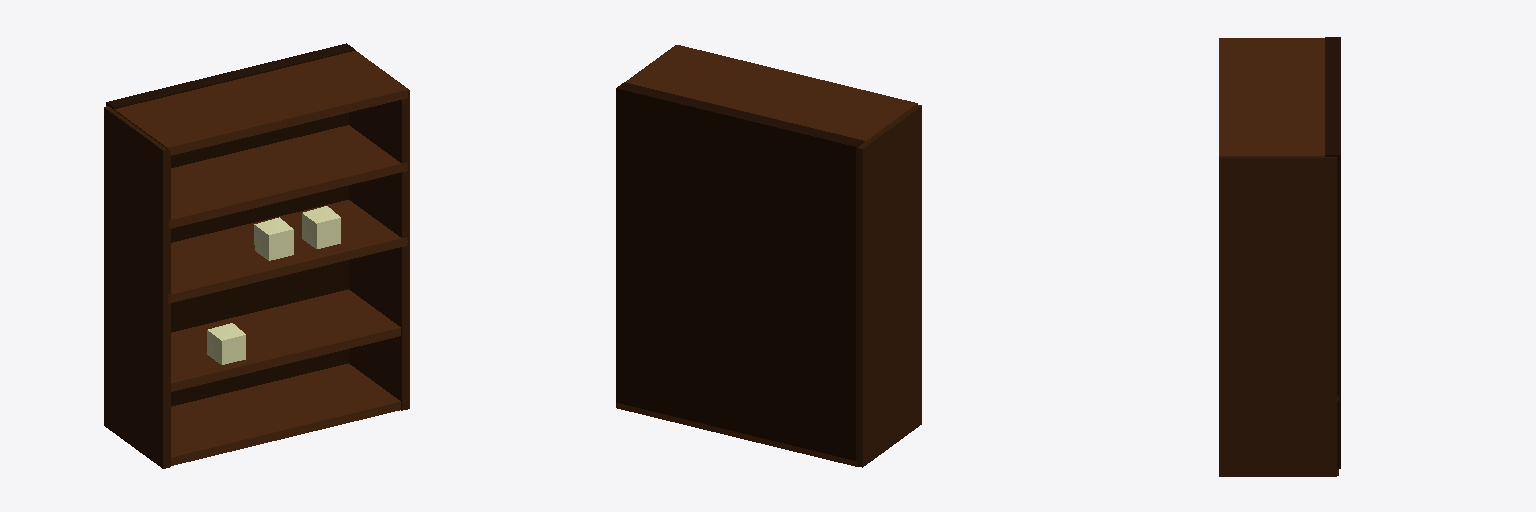
The model's file is mueble3.obj.
3 renders of one model, left to right at view 1: azimuth 30°, elevation 25°; view 2: azimuth 150°, elevation 25°; view 3: azimuth 270°, elevation 25°, orthographic.
Visible parts, largest first — view 1: Cube.032, Cube.030, Cube.033, Cube.039, Cube.009, Cube.031, Cube.029, Cube.034, Cube.037, Cube.038, Cube.035; view 2: Cube.030, Cube.032, Cube.033, Cube.009; view 3: Cube.031, Cube.033, Cube.030.
Boxes of the visible parts, x1,y1,x2,y2 form: Cube.032: [104, 106, 170, 468]; Cube.030: [106, 43, 354, 406]; Cube.033: [109, 51, 407, 155]; Cube.039: [168, 125, 407, 228]; Cube.009: [171, 363, 400, 465]; Cube.031: [349, 50, 409, 410]; Cube.029: [171, 289, 400, 391]; Cube.034: [168, 200, 407, 303]; Cube.037: [254, 217, 293, 260]; Cube.038: [302, 206, 340, 248]; Cube.035: [207, 323, 245, 364]; Cube.030: [616, 82, 864, 460]; Cube.032: [858, 105, 921, 467]; Cube.033: [626, 45, 917, 147]; Cube.009: [617, 403, 857, 466]; Cube.031: [1219, 157, 1336, 476]; Cube.033: [1219, 38, 1324, 156]; Cube.030: [1325, 37, 1340, 468].
Bounding box in the file's own units: 2.4 × 2.98 × 1.03.